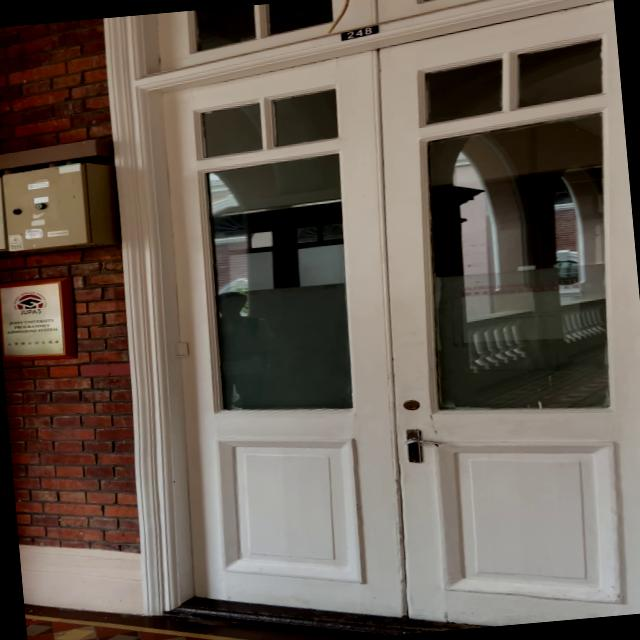room248: (332, 18, 390, 43)
